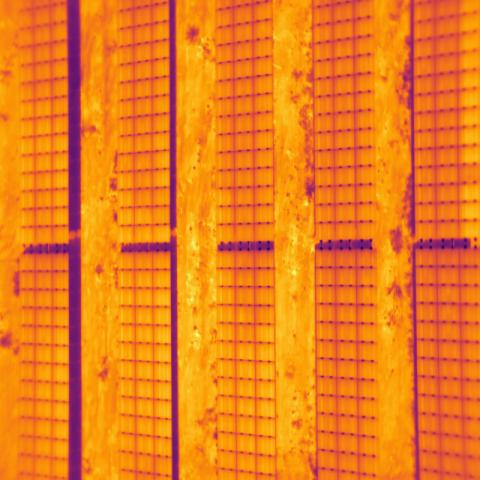fault: (458, 1, 480, 164), (457, 182, 480, 238)
